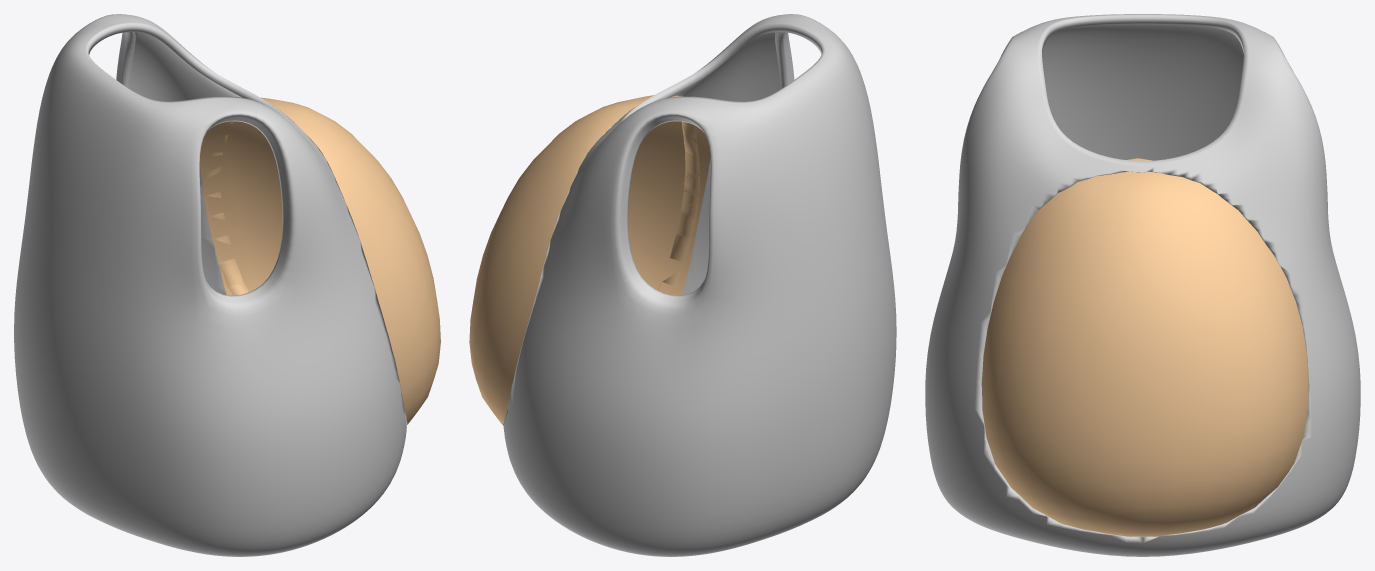
The model's file is body.glb.
The picture shows the model from 3 angles, left to right: view 1: azimuth 30°, elevation 25°; view 2: azimuth 150°, elevation 25°; view 3: azimuth 270°, elevation 25°; orthographic projection. The views are drawn at different scales.
Parts seen in each view (by area): view 1: body_applied, body_belly.001; view 2: body_applied, body_belly.001; view 3: body_applied, body_belly.001.
Boxes of the visible parts, bbox=[...] form: body_applied: bbox=[14, 14, 407, 556]; body_belly.001: bbox=[199, 97, 440, 424]; body_applied: bbox=[503, 14, 896, 556]; body_belly.001: bbox=[469, 95, 710, 425]; body_applied: bbox=[925, 14, 1360, 556]; body_belly.001: bbox=[981, 158, 1308, 536].
Size of the model in its own units: 0.5057 by 0.5665 by 0.5085.
